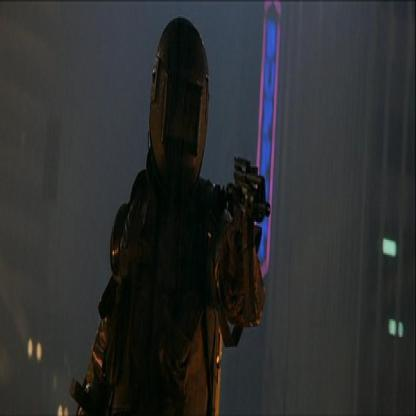Guns: (230, 153, 271, 342)
